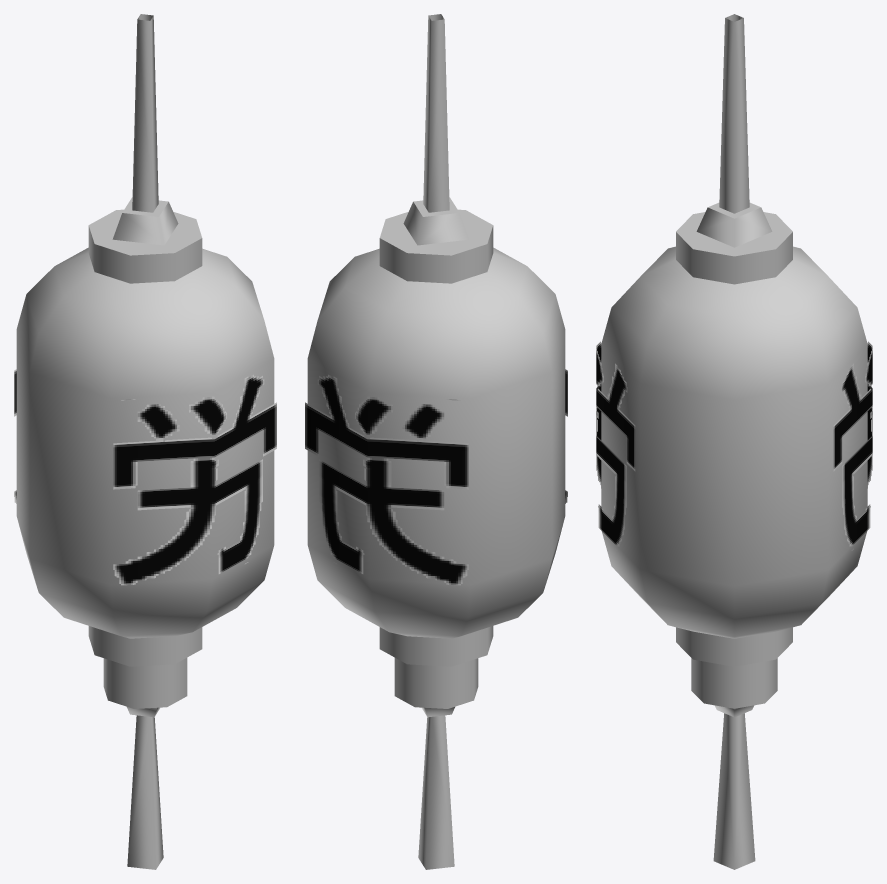
File: MESH_AMB11_Light1.fbx
3 renders of one model, left to right at view 1: azimuth 30°, elevation 25°; view 2: azimuth 150°, elevation 25°; view 3: azimuth 270°, elevation 25°, orthographic.
Parts seen in each view (by area): view 1: long, lampion_long1, symbole1; view 2: long, lampion_long1, symbole1; view 3: long, lampion_long1, symbole1.
Boxes of the visible parts, left/top/right/bottom form: long: left=16, top=247, right=274, bottom=638; lampion_long1: left=88, top=14, right=202, bottom=869; symbole1: left=14, top=369, right=276, bottom=585; long: left=307, top=247, right=565, bottom=638; lampion_long1: left=379, top=14, right=493, bottom=869; symbole1: left=305, top=369, right=567, bottom=585; long: left=601, top=246, right=867, bottom=638; lampion_long1: left=676, top=14, right=792, bottom=869; symbole1: left=596, top=341, right=872, bottom=550.
Bounding box in the file's own units: 7.2 × 25.15 × 7.47.
